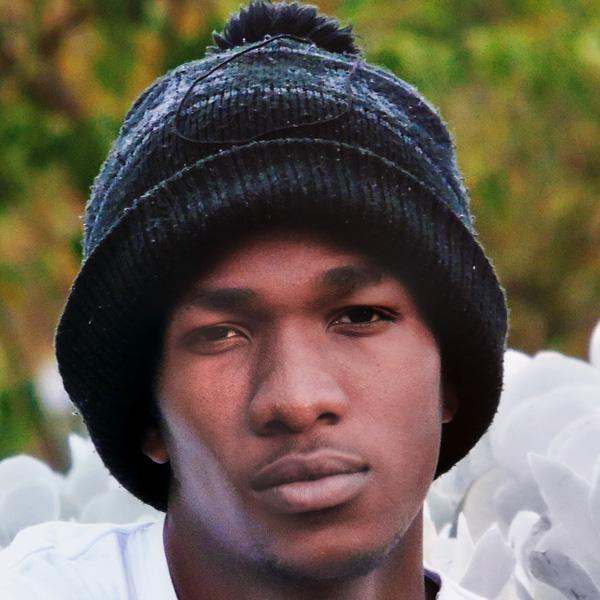Eyes: (321, 293, 406, 340), (179, 313, 258, 358)
